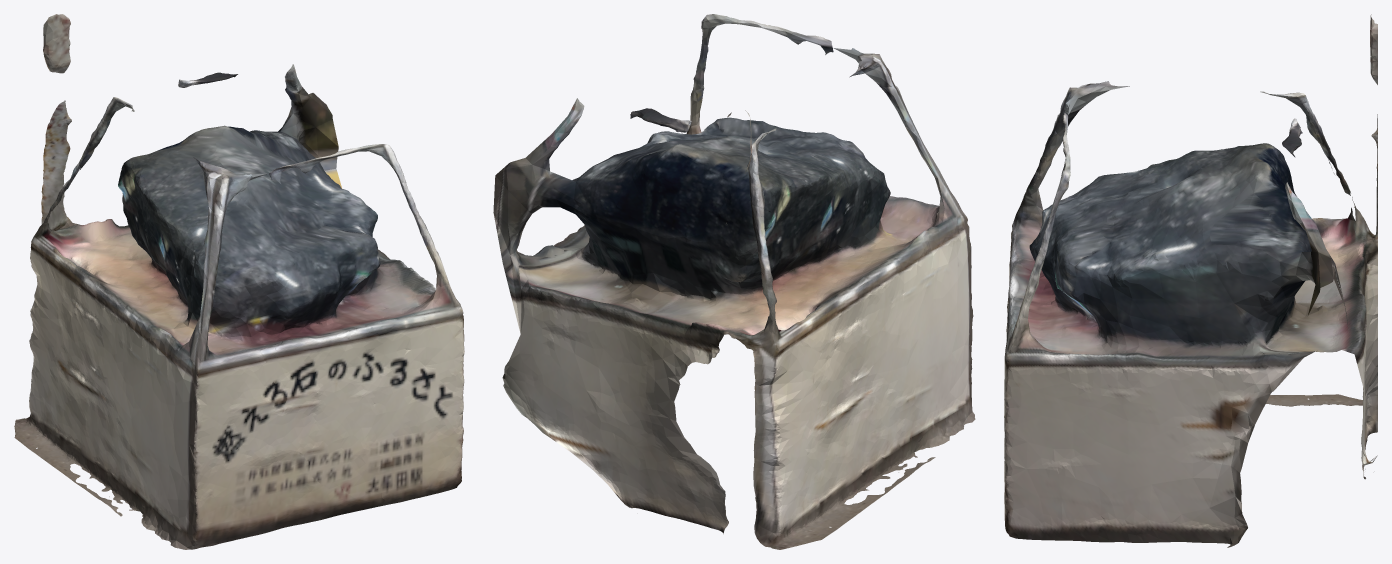
File: stone-oomuta.glb
The picture shows the model from 3 angles, left to right: view 1: azimuth 30°, elevation 25°; view 2: azimuth 150°, elevation 25°; view 3: azimuth 270°, elevation 25°; orthographic projection. The views are drawn at different scales.
Parts seen in each view (by area): view 1: mesh; view 2: mesh; view 3: mesh.
Boxes of the visible parts, box(x1,y1,x2,y2) form: mesh: box(14, 14, 464, 549); mesh: box(493, 14, 975, 549); mesh: box(1004, 14, 1377, 547).
Bounding box in the file's own units: 1.15 × 1.42 × 1.18.
Materials: 1 (1 with a texture image).
